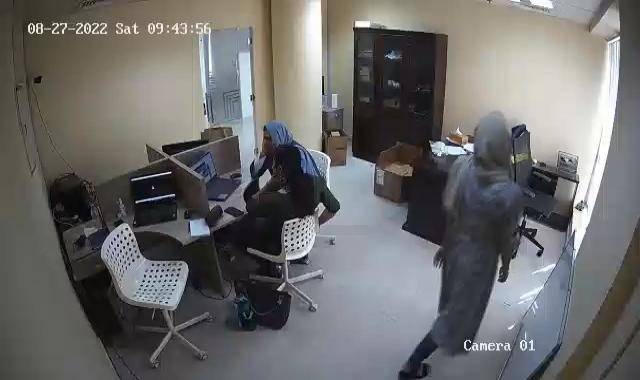no_hairnet: (472, 108, 512, 158), (260, 117, 293, 151), (275, 148, 307, 182)
